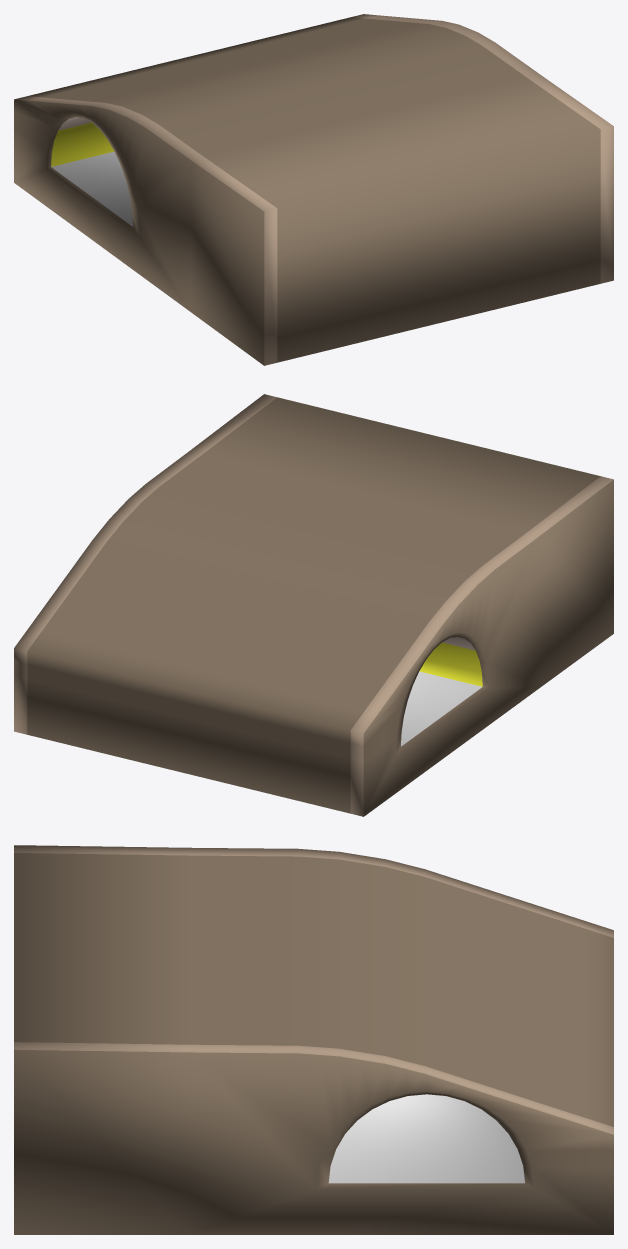
Rendered from tower_access_bridge.fbx.
3 views of the same model, one above another, from view 1: azimuth 30°, elevation 25°; view 2: azimuth 150°, elevation 25°; view 3: azimuth 270°, elevation 25° (orthographic). The views are drawn at different scales.
Parts seen in each view (by area): view 1: TowerAccessBridge; view 2: TowerAccessBridge; view 3: TowerAccessBridge.
Boxes of the visible parts, <box> form: TowerAccessBridge: <box>14,14,613,365</box>; TowerAccessBridge: <box>14,394,613,816</box>; TowerAccessBridge: <box>14,845,613,1234</box>.
Size of the model in its own units: 88.53 by 37.33 by 110.
